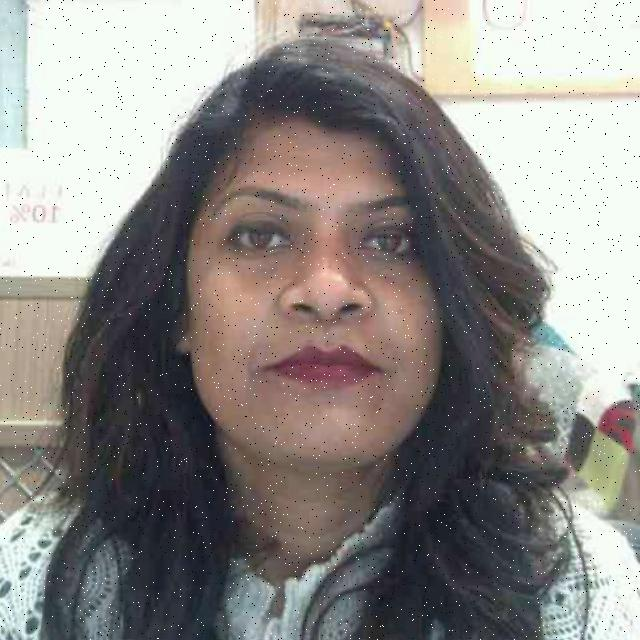puffy_eyes: (223, 246, 298, 274), (353, 249, 417, 279)
